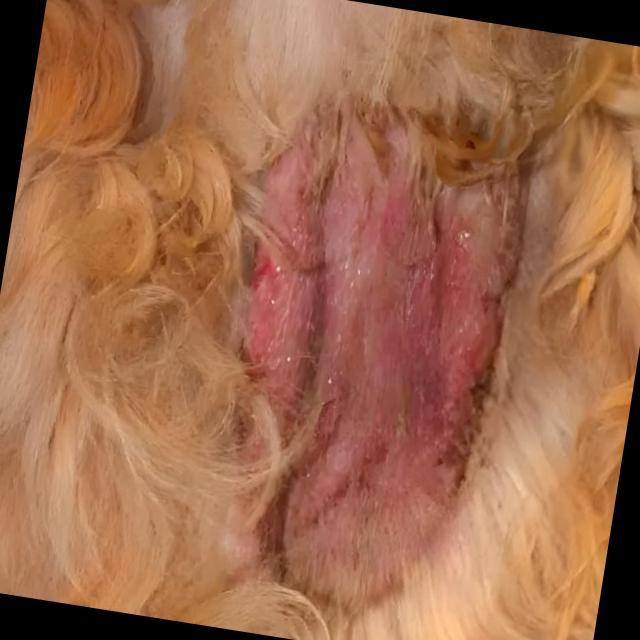allergic dermatitis: (212, 116, 532, 611)
